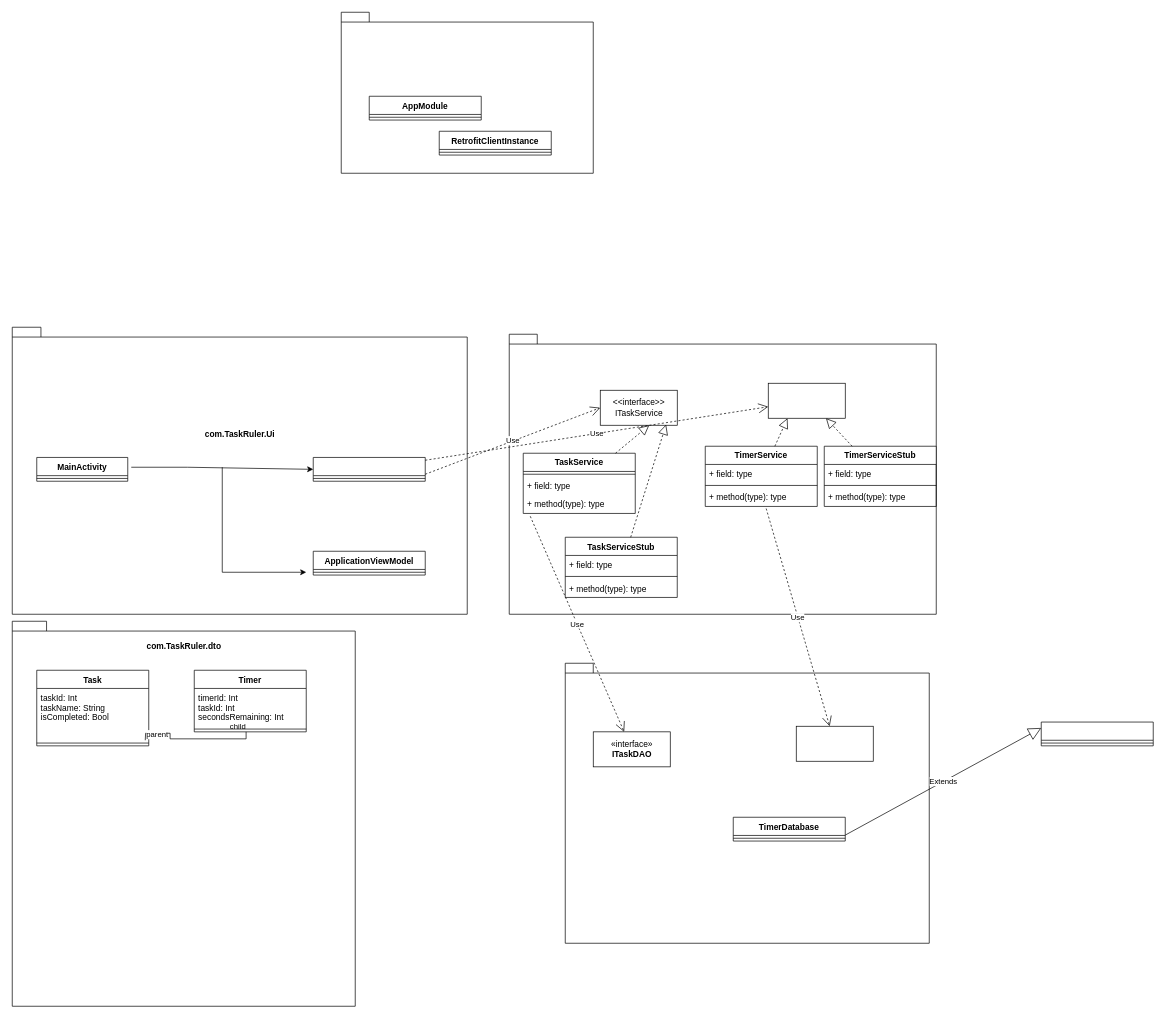
Some shapes in this 1166 by 1024 pixel diagram are drawn without their labels. Here are the shapes that lost their labels. From the top down, the box of each, then its label:
(341, 12, 593, 173): com.TaskRuler
(768, 383, 845, 418): «interface» ITimerService
(313, 457, 425, 481): ViewModel
(509, 334, 936, 614): com.TaskRuler.service
(796, 726, 873, 761): «interface» ITimerDAO
(1041, 721, 1153, 746): RoomDatabase
(565, 663, 929, 943): com.TaskRuler.dao
